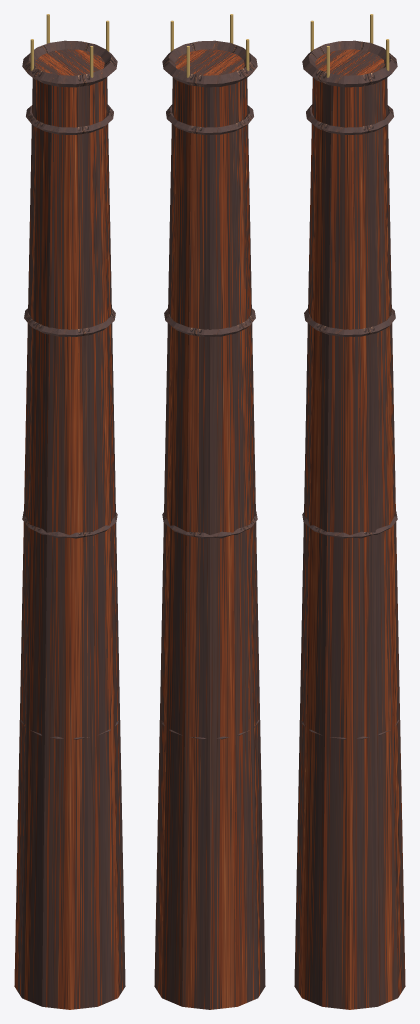
The model's file is chimney.glb.
The picture shows the model from 3 angles, left to right: view 1: azimuth 30°, elevation 25°; view 2: azimuth 150°, elevation 25°; view 3: azimuth 330°, elevation 25°; orthographic projection.
Parts seen in each view (by area): view 1: Stack, Lip, Band.4, Band.3, Band.2; view 2: Stack, Lip, Band.4, Band.3, Band.2; view 3: Stack, Lip, Band.4, Band.3, Band.2.
Boxes of the visible parts, bbox=[...] form: Stack: bbox=[14, 49, 125, 1009]; Lip: bbox=[22, 40, 117, 87]; Band.4: bbox=[26, 104, 113, 134]; Band.3: bbox=[24, 308, 115, 336]; Band.2: bbox=[22, 511, 117, 538]; Stack: bbox=[154, 49, 265, 1009]; Lip: bbox=[162, 40, 257, 87]; Band.4: bbox=[166, 104, 253, 134]; Band.3: bbox=[164, 308, 255, 336]; Band.2: bbox=[162, 511, 257, 538]; Stack: bbox=[294, 49, 405, 1009]; Lip: bbox=[302, 40, 397, 87]; Band.4: bbox=[306, 104, 393, 134]; Band.3: bbox=[304, 308, 395, 336]; Band.2: bbox=[302, 511, 397, 538].
Size of what is drawn, in the model's own units: 12 by 114 by 12.
4 materials, 3 textured.
